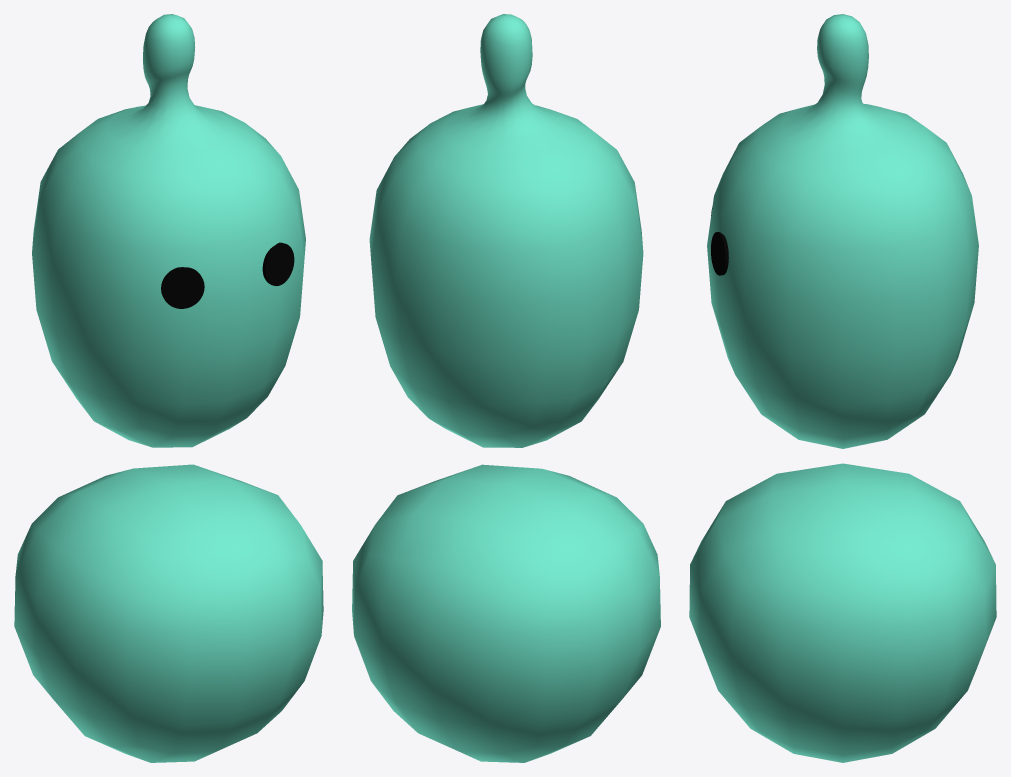
The model's file is bot.glb.
The picture shows the model from 3 angles, left to right: view 1: azimuth 30°, elevation 25°; view 2: azimuth 150°, elevation 25°; view 3: azimuth 270°, elevation 25°; orthographic projection.
Visible parts, largest first — view 1: Cube.001, Cube, Cylinder; view 2: Cube.001, Cube; view 3: Cube.001, Cube, Cylinder.
Part boxes in pixels (box(x1,y1,x2,y2)): Cube.001: box(32, 14, 305, 447); Cube: box(14, 464, 323, 762); Cylinder: box(161, 242, 294, 308); Cube.001: box(369, 14, 643, 447); Cube: box(352, 464, 660, 762); Cube.001: box(707, 14, 978, 448); Cube: box(689, 463, 996, 762); Cylinder: box(711, 208, 728, 275).
Size of the model in its own units: 0.767 by 2.02 by 0.767.
